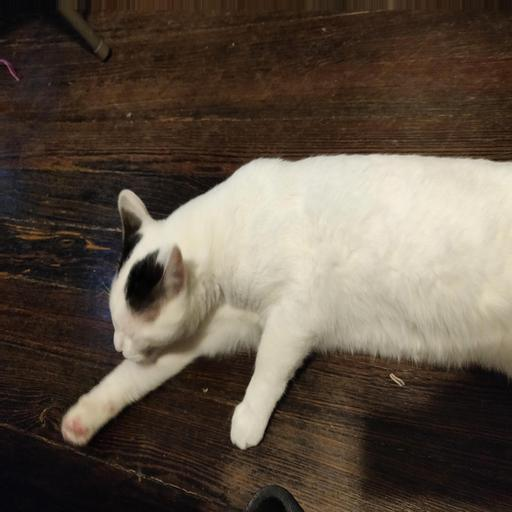cat: (90, 157, 357, 424)
